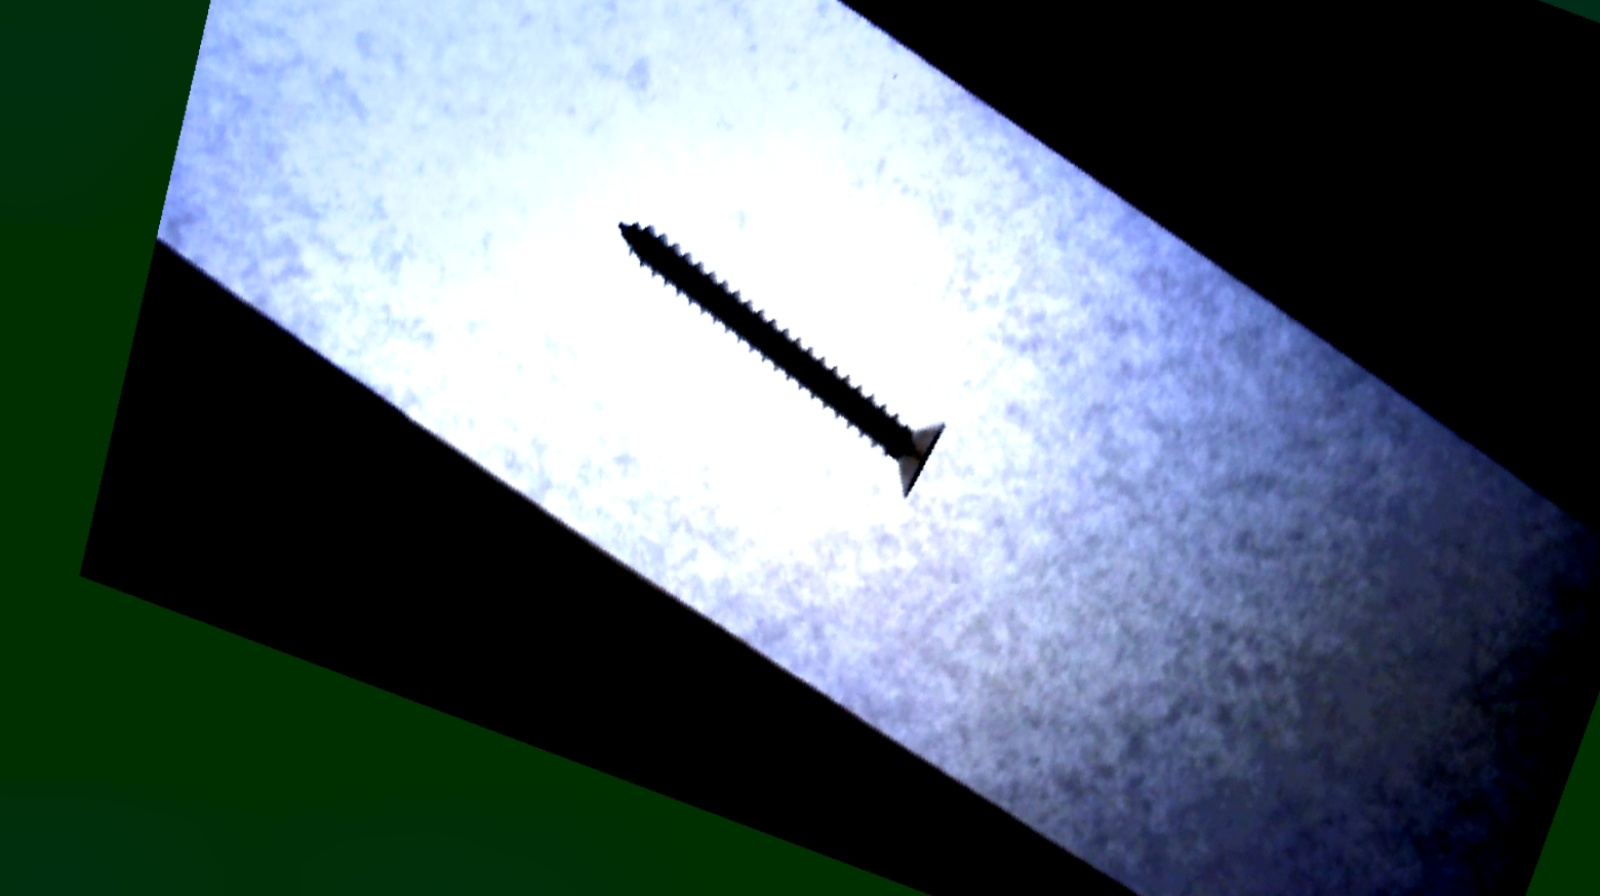S002: (575, 211, 967, 505)
